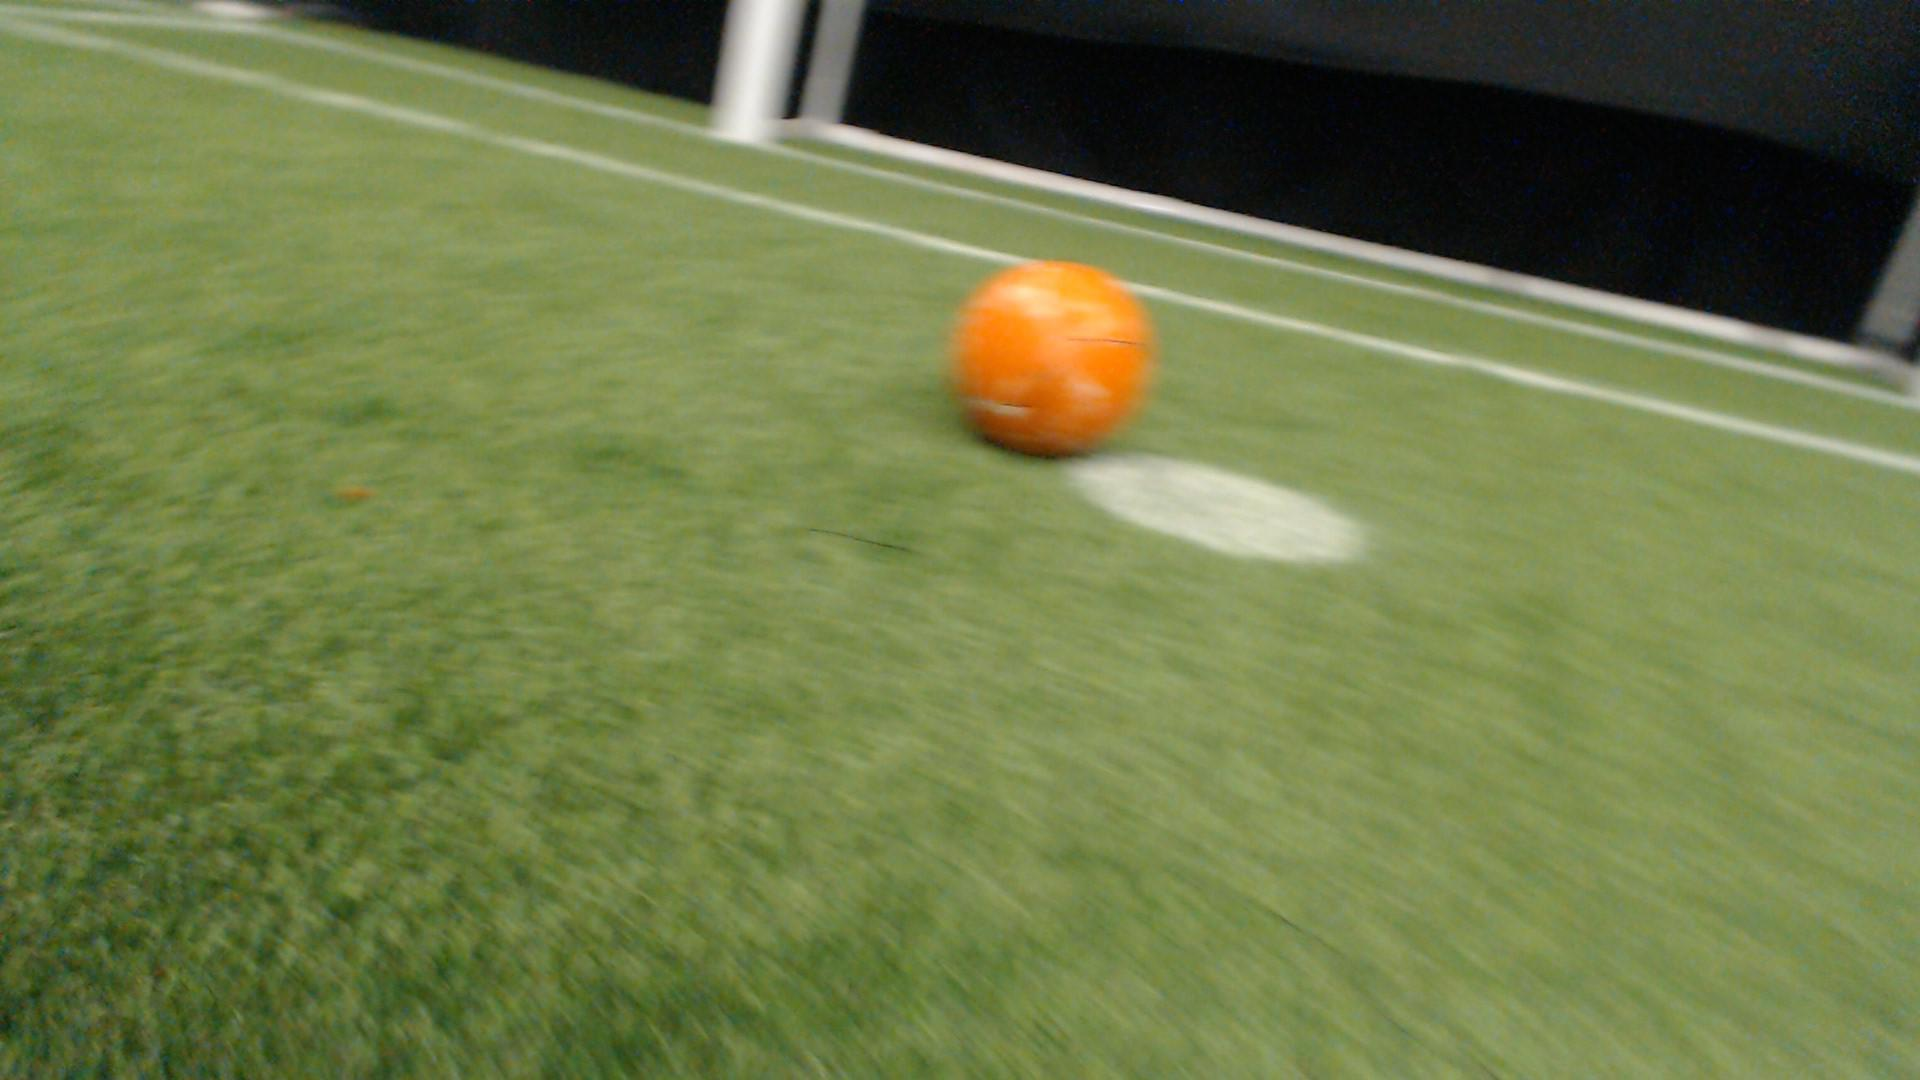bola: (927, 236, 1160, 484)
